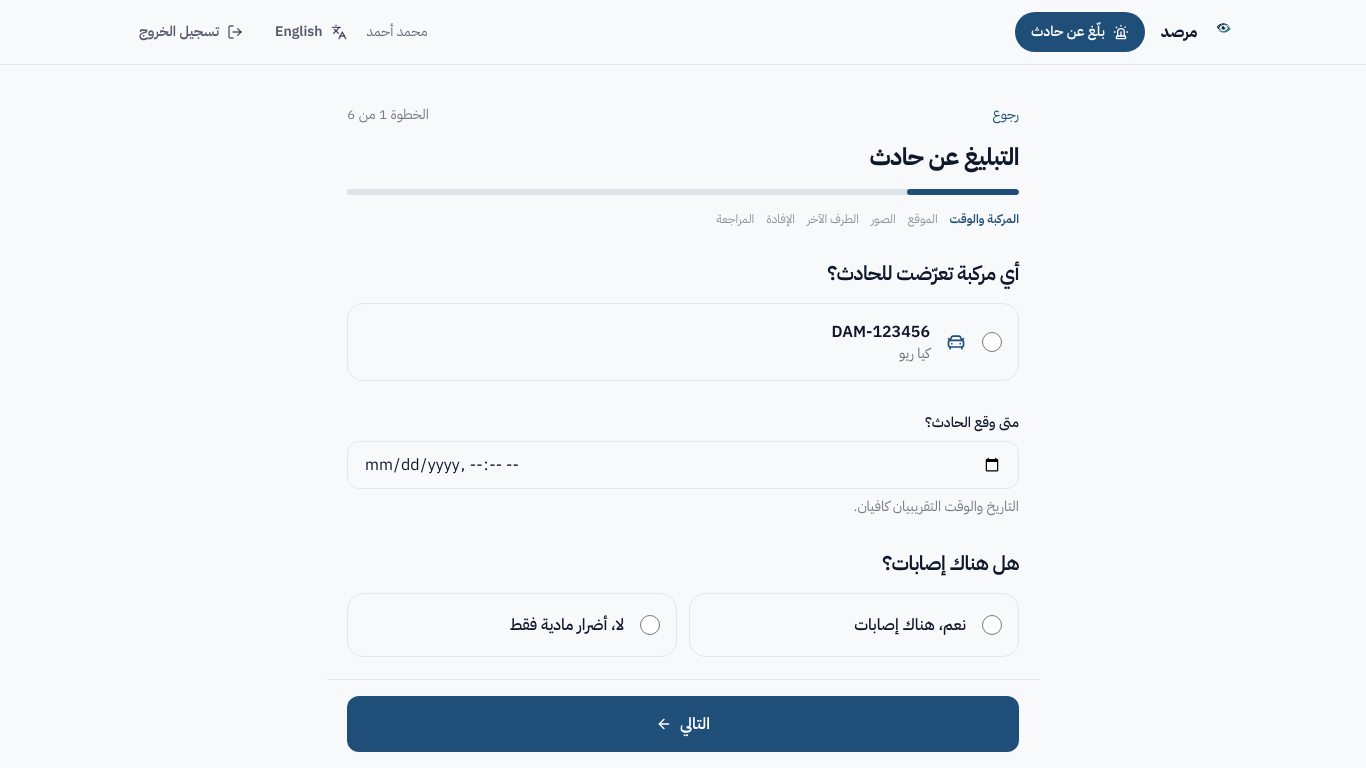
Test: ReportWizard › will not advance past step one without the required answers
Click the button "التالي": [683, 724] box [347,696,1019,752]
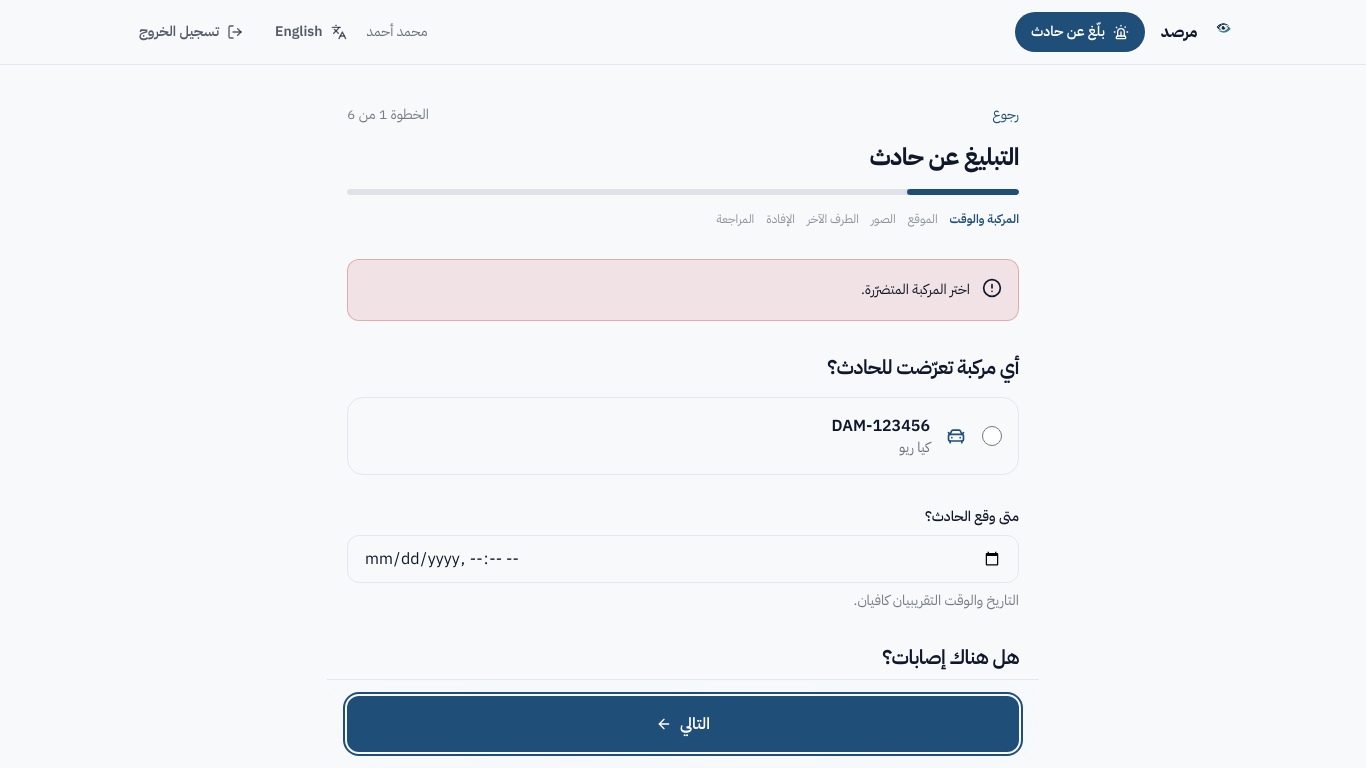
expect the heading "أي مركبة تعرّضت للحادث؟" is shown: met, box [827,352,1019,382]
expect the text "اختر المركبة المتضرّرة." is shown: met, box [861,276,970,304]
